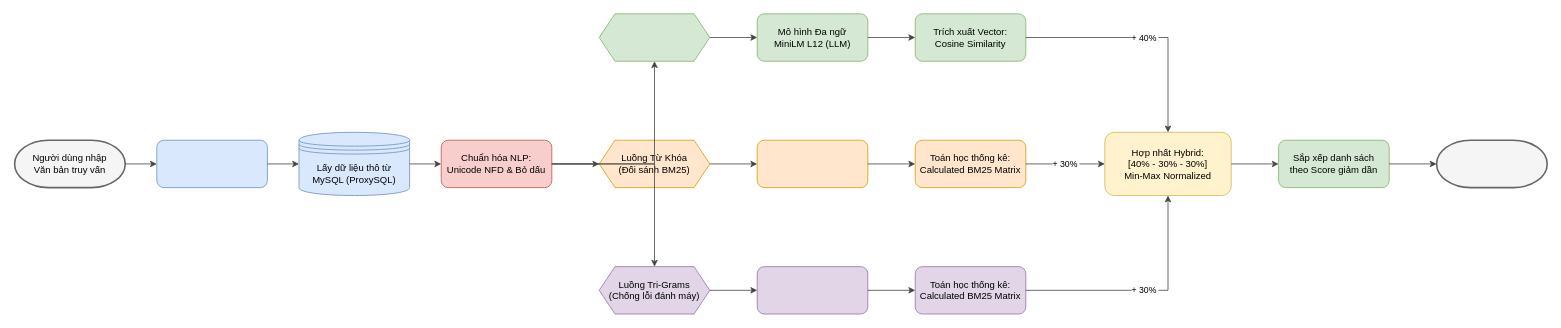
Image size: 1561x328. Some labels were removed from this diagram. Here are the shapes that lost their labels. From the top down, the box of each, then its label:
(598, 13, 710, 61): Luồng Semantic (Mã hóa ngữ nghĩa)
(156, 139, 267, 188): API FastAPI Tiếp nhận Request
(756, 139, 868, 188): Xé nhỏ câu bằng khoảng trắng
(1435, 139, 1548, 188): Trả kết quả đề xuất cho hệ thống UI
(756, 266, 868, 314): Phân rã chuỗi thành nhóm 3 ký tự (N-grams)
